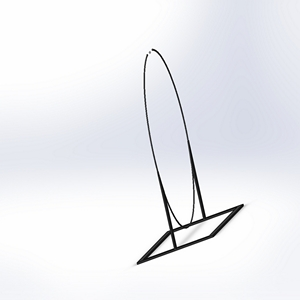circle: (136, 47, 244, 265)
